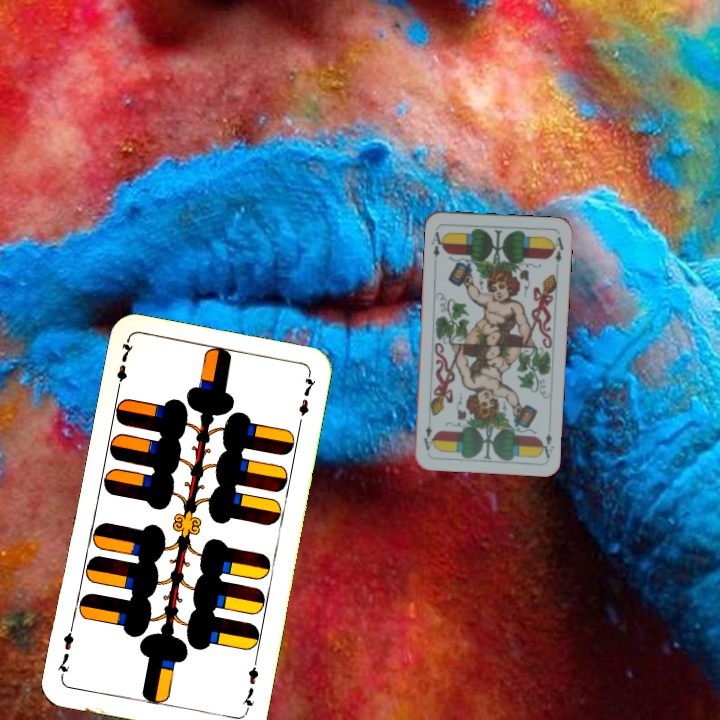E7: (112, 337, 136, 396), (238, 656, 261, 715)
EA: (427, 225, 447, 260), (537, 430, 557, 461)
